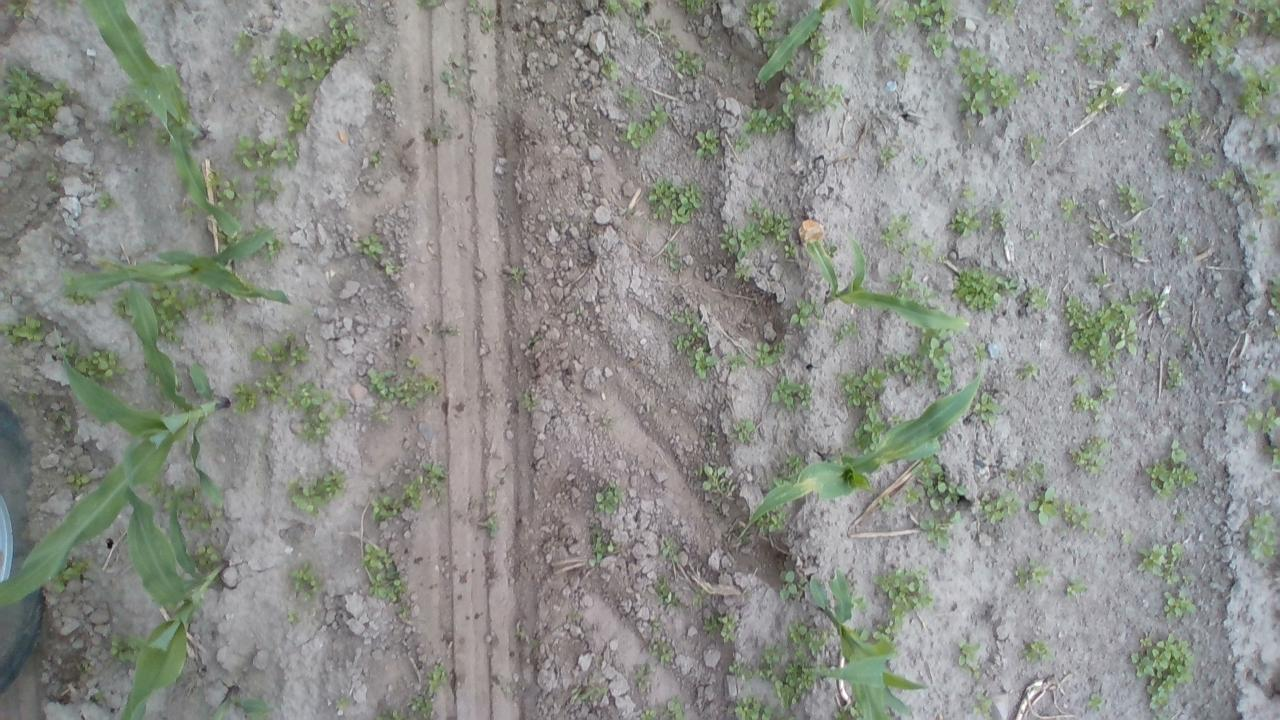Maize: (2, 263, 234, 608), (743, 350, 981, 548), (108, 438, 228, 720), (48, 226, 292, 312), (806, 572, 926, 720), (86, 0, 205, 147), (815, 230, 966, 330), (754, 0, 868, 78), (206, 689, 266, 719)
Weeds: (230, 0, 362, 168), (232, 334, 348, 440), (1062, 284, 1172, 376), (1178, 0, 1280, 71), (904, 459, 973, 549), (722, 202, 796, 283), (1, 66, 74, 146), (739, 78, 840, 132), (1128, 634, 1194, 716), (366, 354, 441, 426), (956, 44, 1018, 122), (834, 367, 887, 456), (369, 463, 445, 525), (756, 639, 826, 706), (875, 566, 932, 640), (888, 330, 952, 395), (668, 303, 718, 382), (154, 286, 220, 344), (1145, 439, 1198, 498), (956, 263, 1019, 311), (645, 176, 705, 226), (149, 480, 211, 528), (287, 466, 349, 514), (1158, 108, 1200, 168), (364, 543, 404, 603), (1136, 65, 1195, 105), (617, 103, 667, 150), (107, 93, 147, 150), (1238, 62, 1279, 117), (886, 0, 955, 32), (1066, 436, 1116, 478), (1136, 542, 1182, 586), (982, 486, 1028, 527), (787, 620, 830, 661), (1070, 383, 1117, 419), (1076, 36, 1122, 72), (2, 313, 48, 348), (72, 352, 124, 382), (700, 607, 745, 641), (1116, 180, 1154, 217), (1249, 509, 1276, 560), (1085, 80, 1128, 112), (701, 460, 736, 498), (591, 481, 627, 516), (1002, 460, 1046, 488), (1028, 484, 1056, 528), (1245, 164, 1280, 199), (1053, 1, 1087, 37), (728, 696, 779, 720), (790, 296, 826, 330), (1241, 406, 1280, 437), (1108, 0, 1154, 26), (887, 266, 922, 300), (628, 662, 661, 698), (774, 374, 810, 406), (56, 558, 90, 591), (1162, 590, 1198, 621), (972, 390, 1002, 426), (748, 1, 780, 34), (442, 57, 474, 90), (108, 634, 142, 664), (957, 642, 985, 678), (586, 530, 614, 566), (209, 172, 242, 202), (1014, 559, 1044, 591), (465, 0, 495, 32), (652, 576, 682, 608), (1023, 276, 1049, 312), (878, 216, 914, 242), (252, 170, 277, 206), (754, 340, 786, 368), (1061, 500, 1090, 530), (290, 560, 318, 591), (568, 684, 608, 705), (1086, 216, 1112, 248), (988, 0, 1022, 24), (598, 51, 626, 80), (1124, 226, 1146, 262), (758, 510, 788, 536), (948, 208, 979, 233), (778, 568, 799, 604), (408, 691, 436, 718), (1164, 357, 1188, 388), (0, 0, 41, 18), (926, 30, 954, 56), (671, 50, 700, 75), (731, 419, 760, 444), (727, 657, 754, 683), (359, 232, 386, 258), (694, 128, 720, 154), (230, 28, 252, 57), (1210, 167, 1236, 191), (1061, 576, 1089, 598), (1021, 638, 1049, 660), (663, 695, 688, 719), (615, 85, 640, 109), (806, 32, 832, 55), (62, 292, 95, 310), (478, 511, 500, 538), (1058, 195, 1078, 224), (721, 351, 750, 371), (518, 386, 540, 412), (654, 640, 676, 666), (427, 664, 448, 690), (66, 470, 90, 492), (660, 536, 684, 558), (1260, 442, 1280, 468), (1016, 359, 1040, 380), (264, 240, 284, 264), (917, 284, 937, 308), (368, 76, 392, 96), (988, 204, 1006, 230), (1023, 134, 1042, 158), (1268, 278, 1280, 316), (666, 242, 682, 270), (837, 324, 862, 341), (1259, 202, 1280, 222), (864, 0, 882, 23), (1070, 371, 1088, 393), (196, 544, 218, 562), (786, 452, 801, 478), (1260, 375, 1278, 396), (919, 240, 936, 262), (374, 708, 405, 720), (46, 166, 64, 186), (880, 146, 896, 168), (1088, 268, 1110, 284), (152, 127, 170, 146), (875, 496, 894, 514), (1087, 693, 1104, 713), (376, 259, 396, 276), (971, 342, 988, 362), (603, 0, 623, 17), (833, 707, 859, 720), (1023, 69, 1041, 87), (365, 154, 383, 172), (1119, 530, 1138, 546), (415, 0, 445, 10), (96, 192, 113, 209), (394, 602, 412, 618), (334, 694, 352, 710), (286, 610, 304, 626), (975, 696, 993, 712), (639, 707, 660, 720), (895, 52, 912, 68), (502, 266, 524, 278), (680, 0, 706, 10), (854, 596, 870, 612), (734, 136, 752, 150), (1176, 232, 1190, 250), (624, 0, 643, 13), (1200, 152, 1216, 167), (634, 19, 650, 33), (1043, 43, 1067, 52), (1174, 326, 1190, 339), (960, 184, 974, 198), (47, 0, 71, 8), (762, 40, 777, 52), (1270, 325, 1280, 341), (602, 412, 612, 427), (898, 243, 912, 252), (1174, 509, 1182, 521), (1184, 575, 1194, 584), (484, 490, 496, 496), (911, 154, 922, 160)
